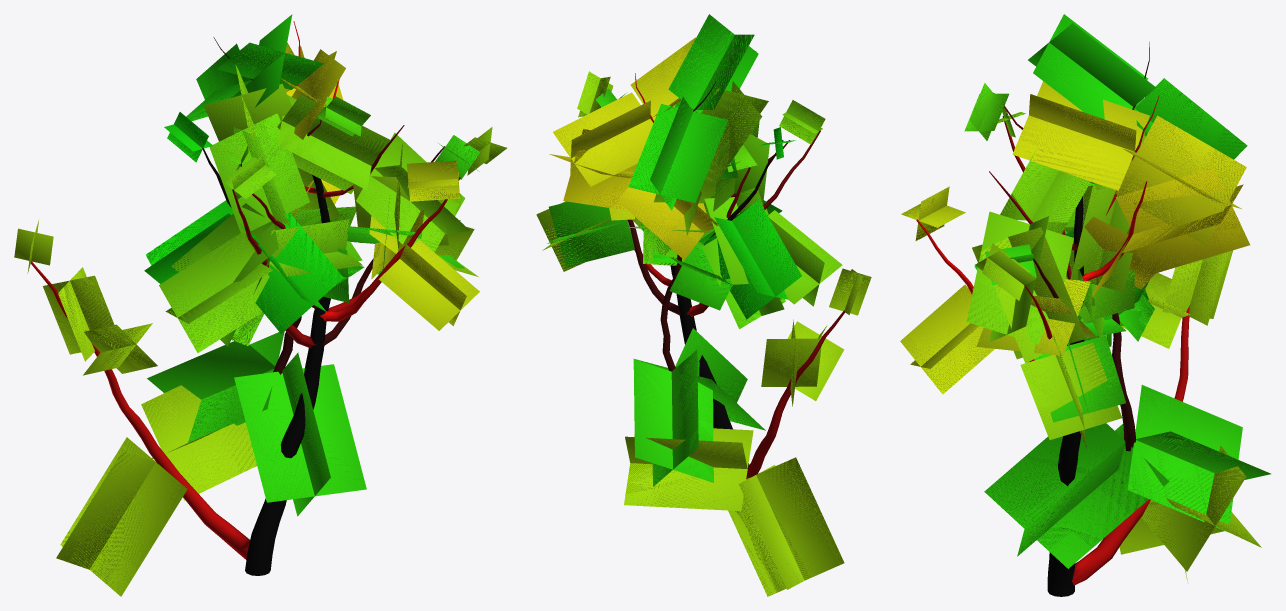
File: Type_1_Tree_9.fbx
The picture shows the model from 3 angles, left to right: view 1: azimuth 30°, elevation 25°; view 2: azimuth 150°, elevation 25°; view 3: azimuth 270°, elevation 25°; orthographic projection. The views are drawn at different scales.
Visible parts, largest first — view 1: Leaf, Trunk; view 2: Leaf, Trunk; view 3: Leaf, Trunk.
Part boxes in pixels (left/top/right/bottom): Leaf: left=14, top=14, right=506, bottom=596; Trunk: left=29, top=21, right=460, bottom=575; Leaf: left=536, top=14, right=871, bottom=596; Trunk: left=627, top=73, right=844, bottom=478; Leaf: left=900, top=14, right=1270, bottom=583; Trunk: left=916, top=42, right=1189, bottom=596.
Size of the model in its own units: 2596 by 3498 by 1885.
